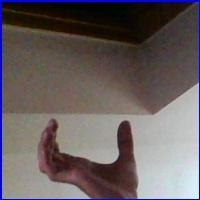space: (30, 114, 153, 199)
